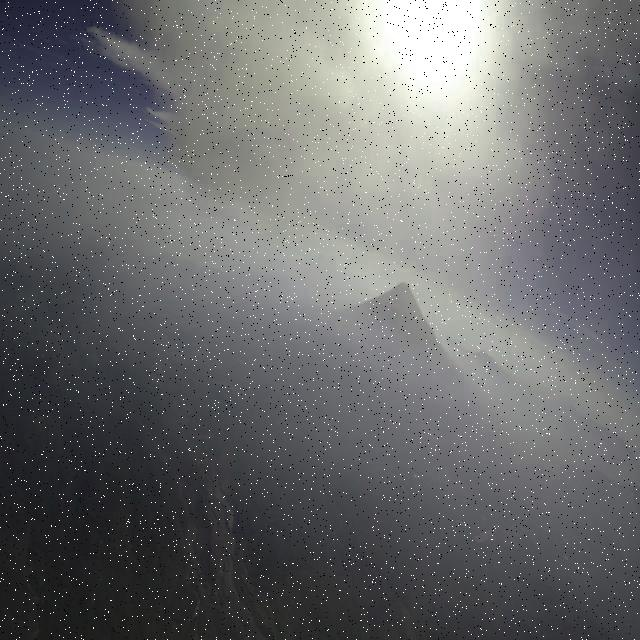Plume: (130, 0, 640, 242)
